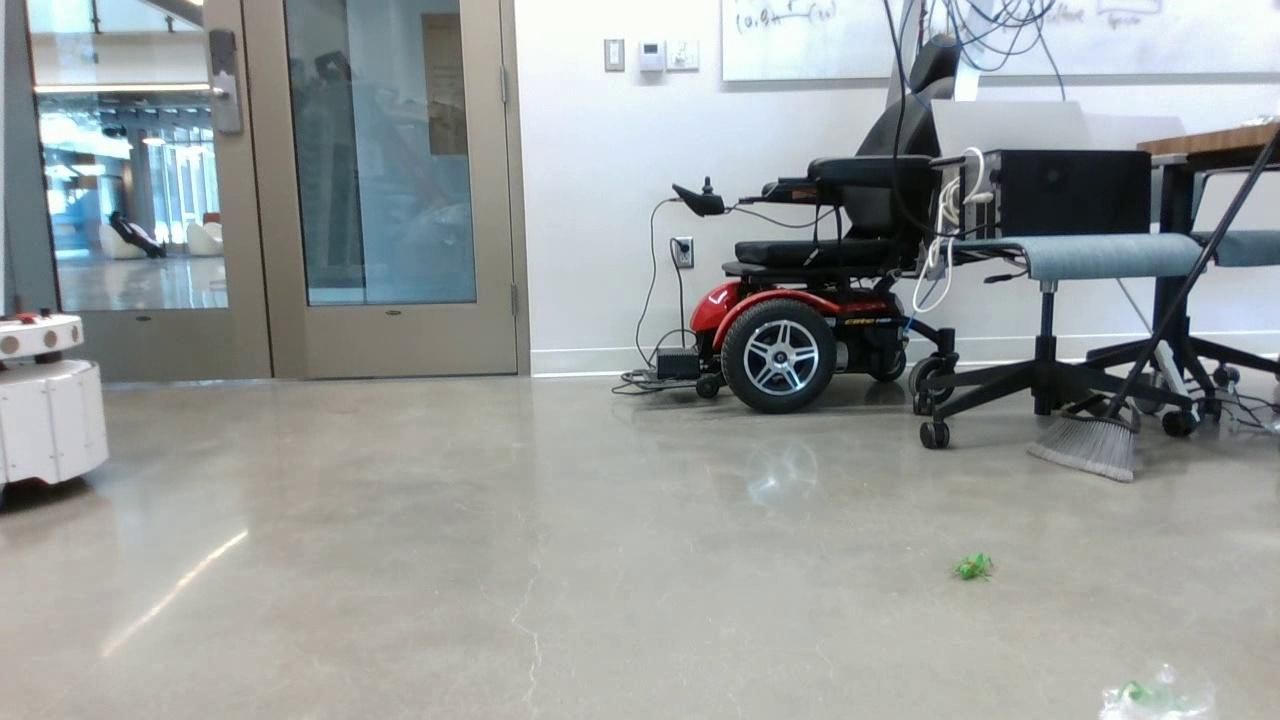grasshopper: (950, 548, 996, 586)
